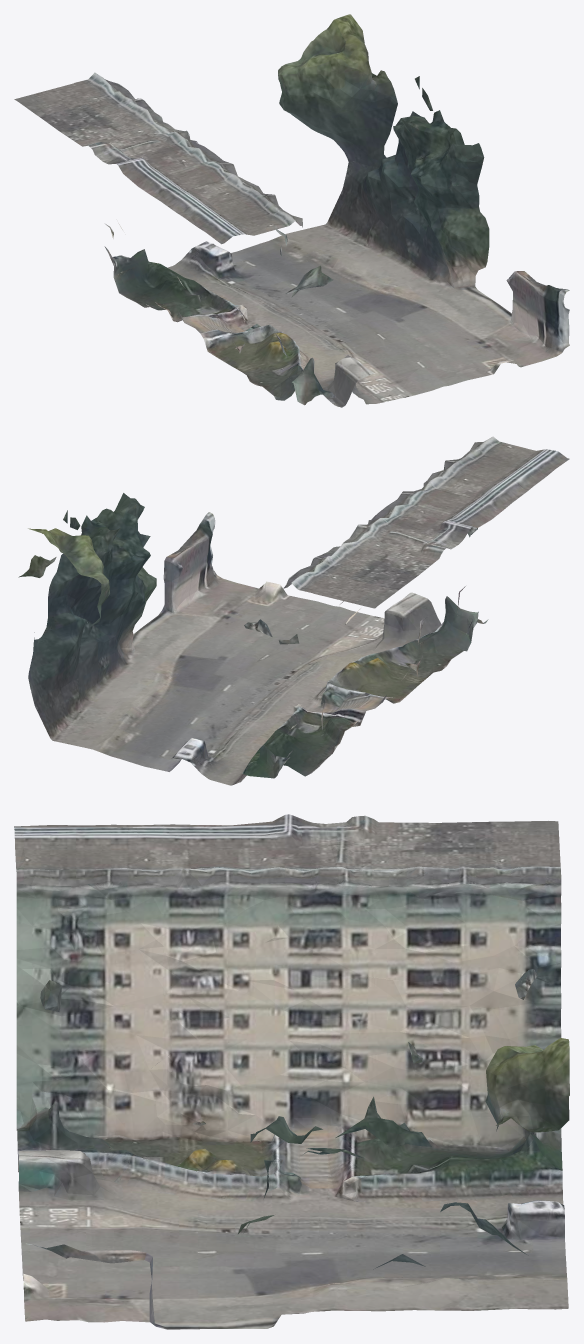
Rendered from Tile_+011_+009_L20_000002330.glb.
The picture shows the model from 3 angles, top to bottom: view 1: azimuth 30°, elevation 25°; view 2: azimuth 150°, elevation 25°; view 3: azimuth 270°, elevation 25°; orthographic projection. The views are drawn at different scales.
Parts seen in each view (by area): view 1: rtc; view 2: rtc; view 3: rtc.
Boxes of the visible parts, x1,y1,x2,y2 form: rtc: (14,14,569,407); rtc: (18,436,569,785); rtc: (14,814,569,1329).
Size of the model in its own units: 32.68 by 18.75 by 32.14.
Materials: 1 (1 with a texture image).
